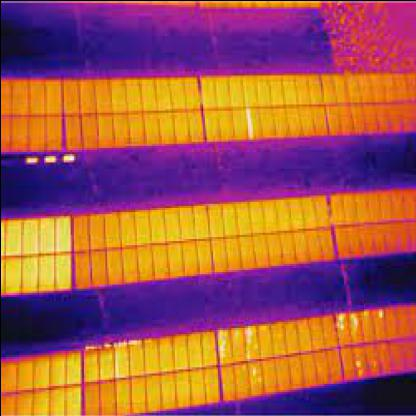Defects: (242, 106, 260, 138), (347, 310, 356, 338), (351, 354, 363, 372), (62, 152, 76, 166), (42, 154, 58, 164), (22, 156, 38, 164)
